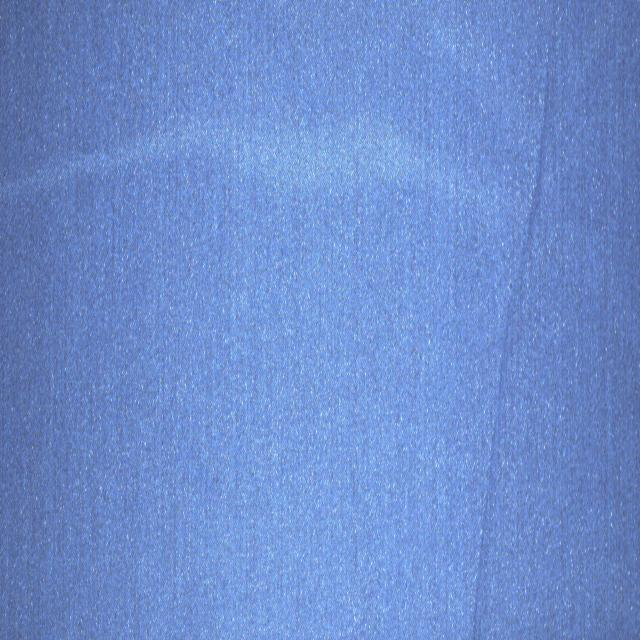broken_yarn: (476, 31, 556, 640)
